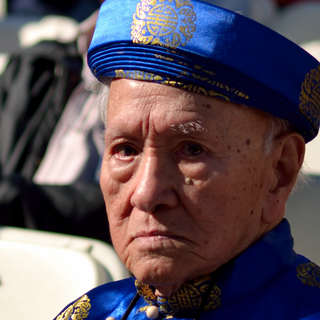eye: (109, 139, 145, 163)
